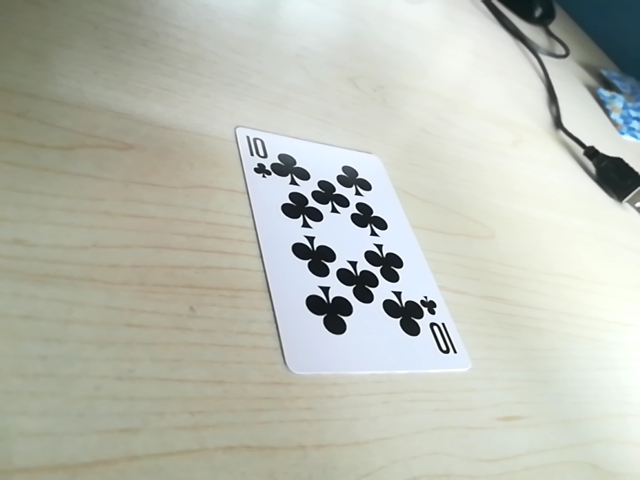mh 10: (238, 132, 280, 188), (416, 301, 453, 363)
